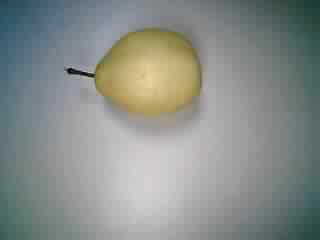pear: (64, 18, 208, 137)
